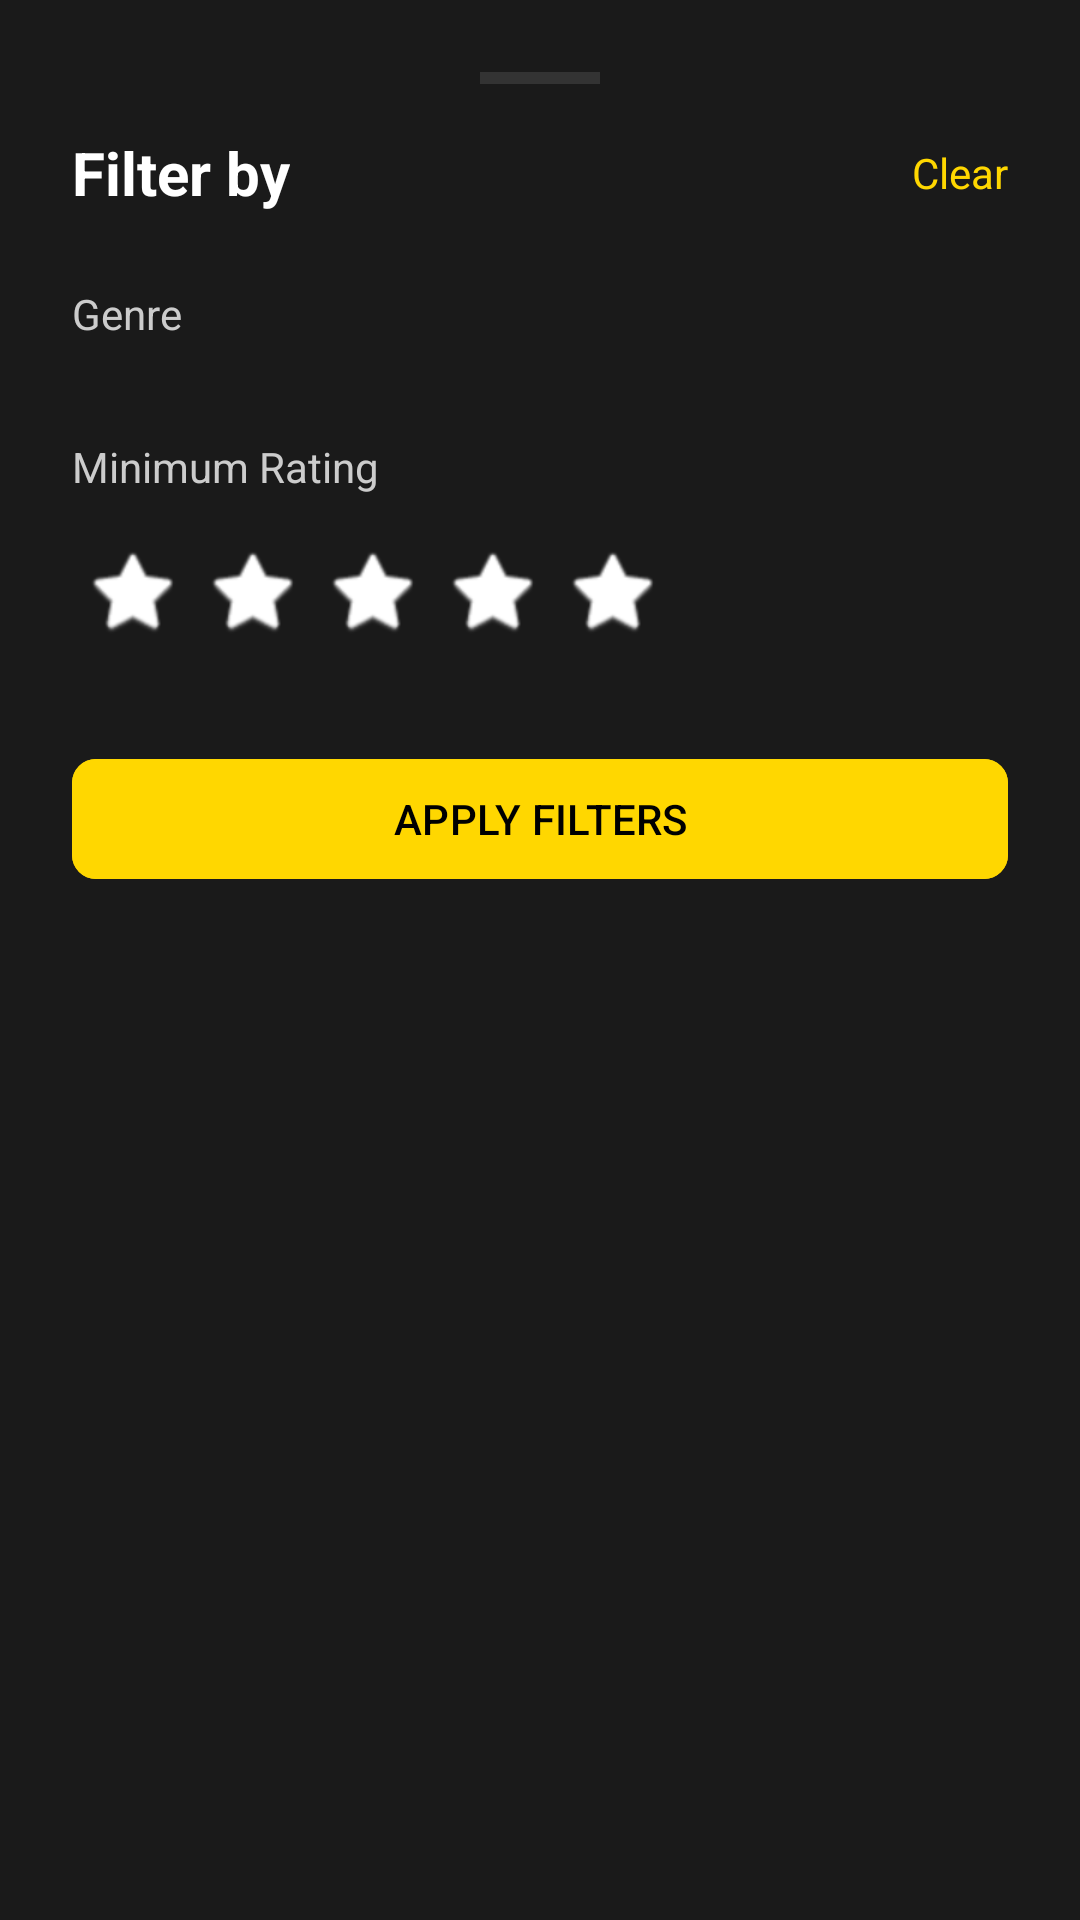

Where icons sit on this 1080px×1920px app screen, as (x1, y1, x2, y2):
star off: (93, 553, 173, 631), (213, 553, 293, 631), (333, 553, 413, 631), (453, 553, 533, 631), (573, 553, 653, 631)
